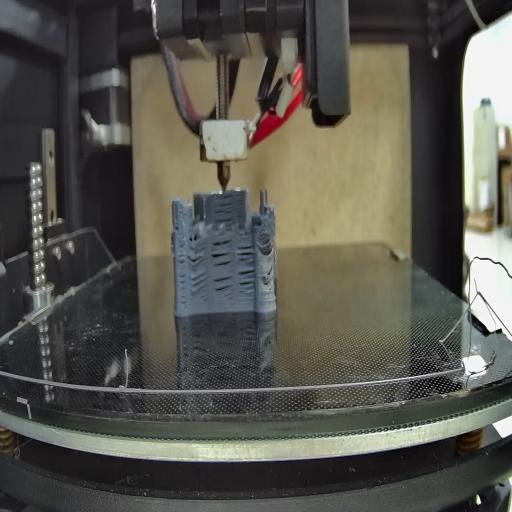cracks: (214, 274, 236, 307), (211, 236, 234, 267), (237, 267, 258, 300), (176, 252, 187, 311), (186, 243, 206, 269), (214, 198, 234, 224), (190, 270, 208, 294), (236, 240, 254, 261), (261, 263, 273, 288), (259, 234, 274, 252), (174, 221, 182, 234)
